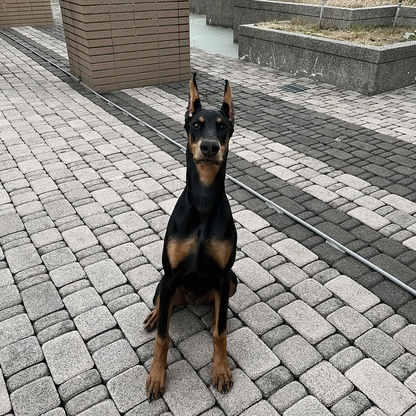doberman: (141, 71, 241, 405)
